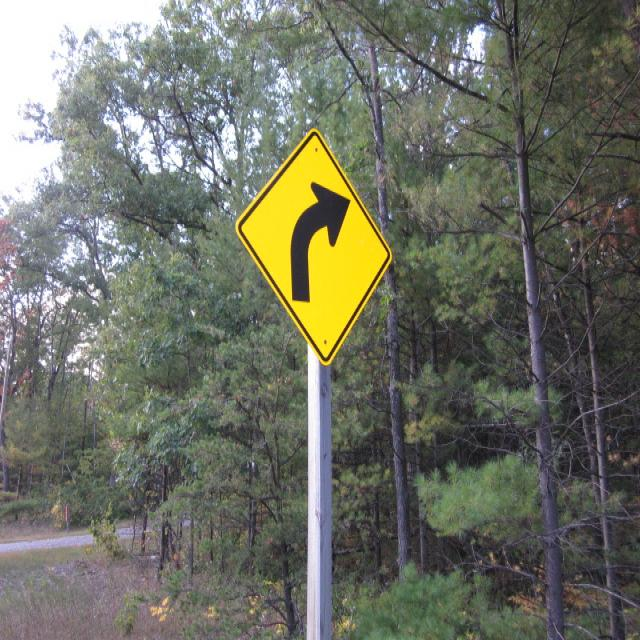warning: (236, 127, 393, 364)
